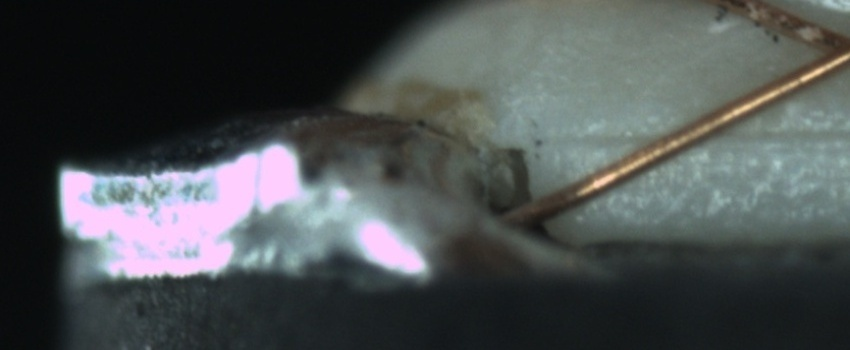CL: (775, 6, 849, 91)
DL: (544, 105, 850, 168)
